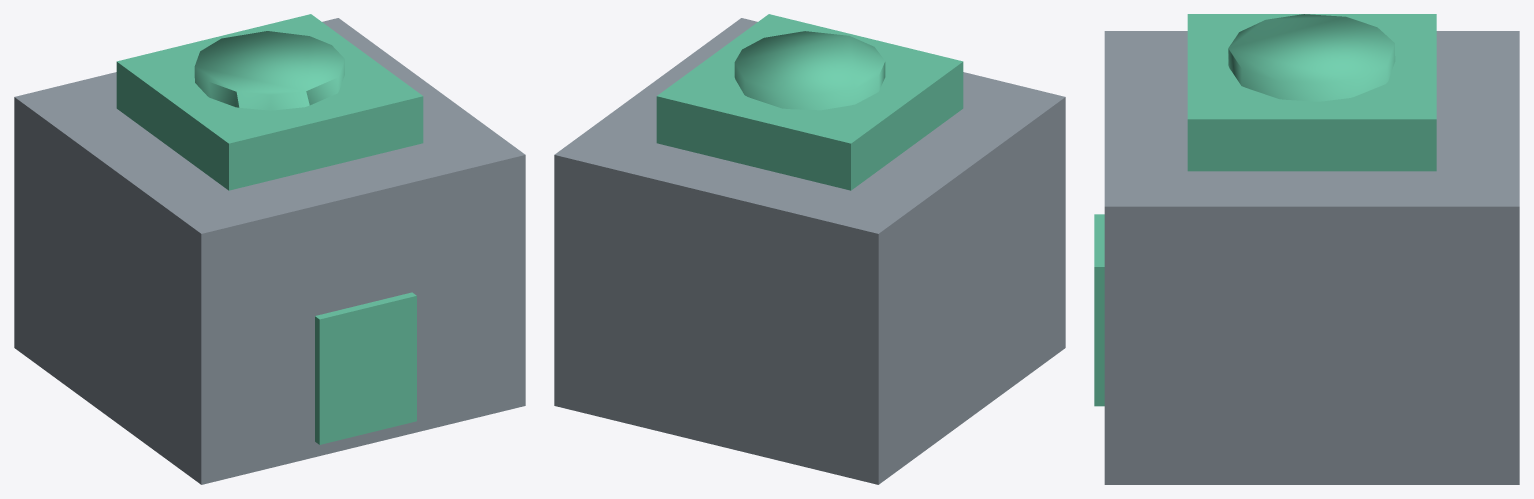
The model's file is CO_AATurret_LOD1.glb.
3 views of the same model, side by side, from view 1: azimuth 30°, elevation 25°; view 2: azimuth 150°, elevation 25°; view 3: azimuth 270°, elevation 25° (orthographic). The views are drawn at different scales.
Visible parts, largest first — view 1: EntranceGate; view 2: EntranceGate; view 3: EntranceGate.
Part boxes in pixels (left/top/right/bottom): EntranceGate: left=14, top=14, right=525, bottom=484; EntranceGate: left=554, top=14, right=1065, bottom=484; EntranceGate: left=1094, top=14, right=1519, bottom=484.
Size of the model in its own units: 400 by 370 by 410.
